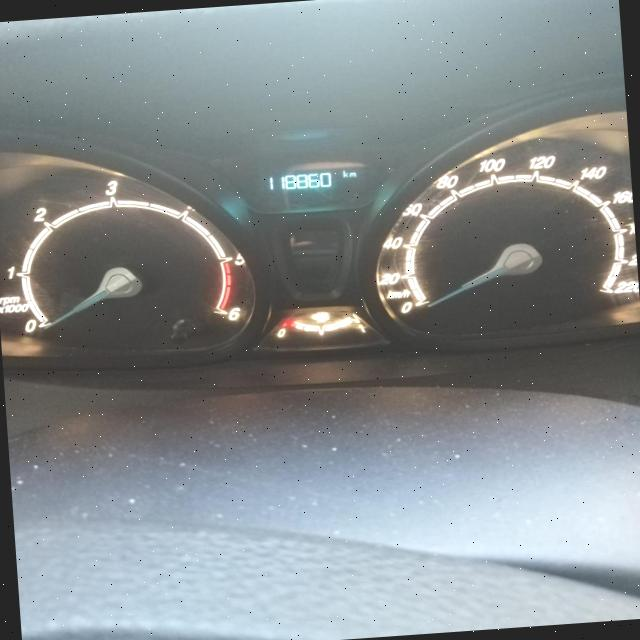odometer: (253, 158, 369, 205)
